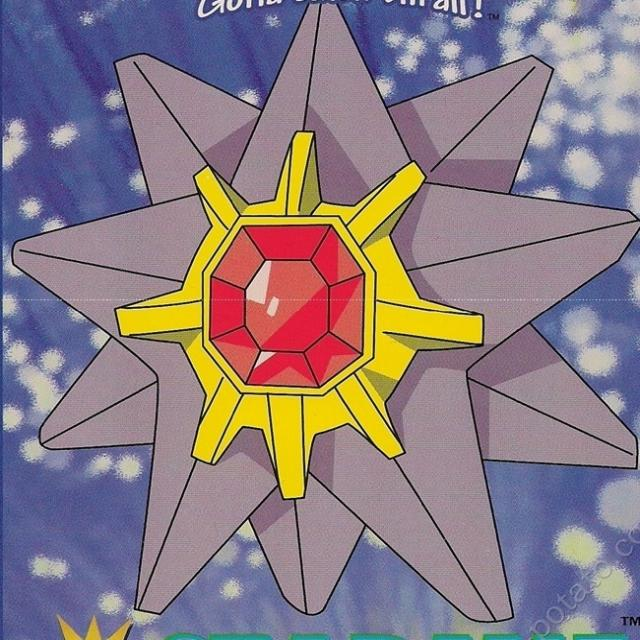Starmie: (20, 9, 633, 626)
